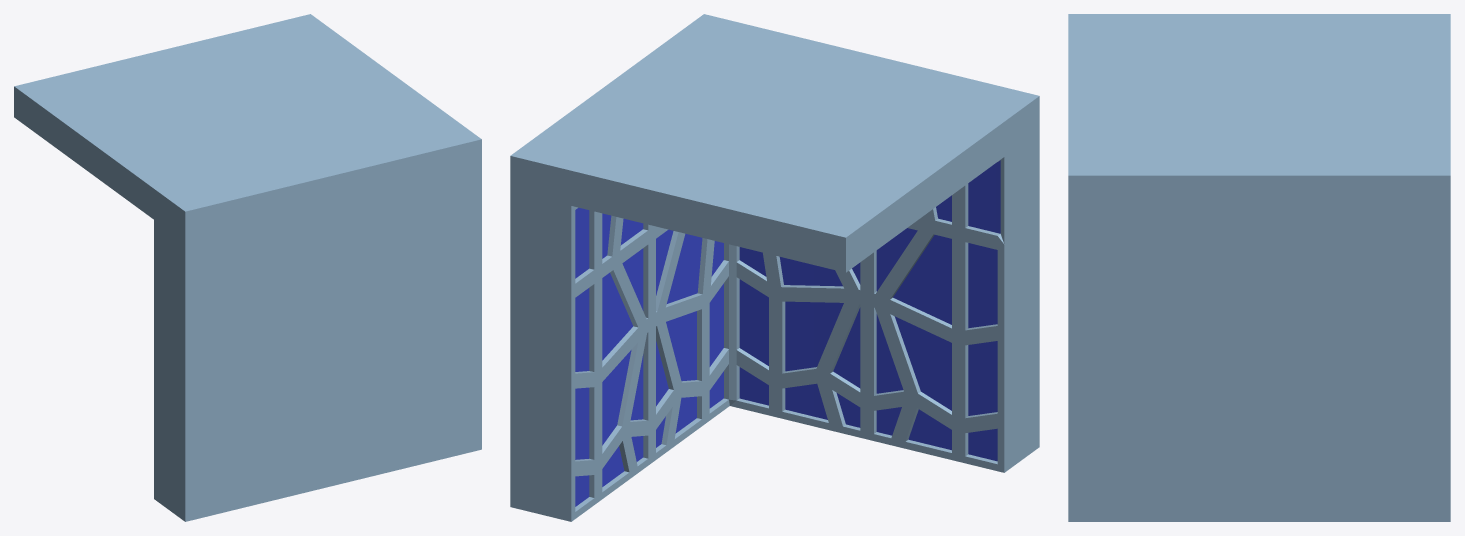
The model's file is EspacioRedSocialEsquinaCierreInteriorAltoNS.gltf.
The picture shows the model from 3 angles, left to right: view 1: azimuth 30°, elevation 25°; view 2: azimuth 150°, elevation 25°; view 3: azimuth 270°, elevation 25°; orthographic projection. The views are drawn at different scales.
Visible parts, largest first — view 1: Cubo.38; view 2: Cubo.38; view 3: Cubo.38.
Part boxes in pixels (left/top/right/bottom): Cubo.38: left=14, top=14, right=481, bottom=521; Cubo.38: left=510, top=14, right=1039, bottom=521; Cubo.38: left=1068, top=14, right=1450, bottom=521.
Size of the model in its own units: 2 by 2 by 2.
Materials: 1 (1 with a texture image).
